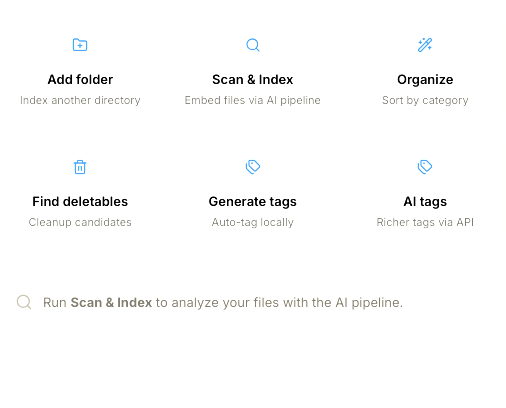
ScanView enhanced progress & debug panel › shows elapsed time during a running scan
The width and height of the screenshot is (506, 408).
Step 1. Click the button "Scan & Index Embed files via AI pipeline" → x=253, y=68, box [172,12,334,124]
Wait 5100 ms
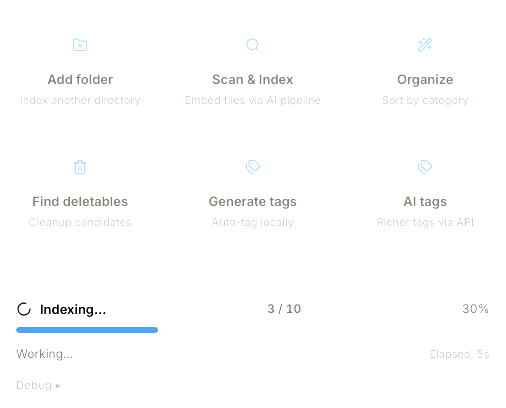
Now the text "Elapsed: 5s" is shown, box [429,346,489,363]
